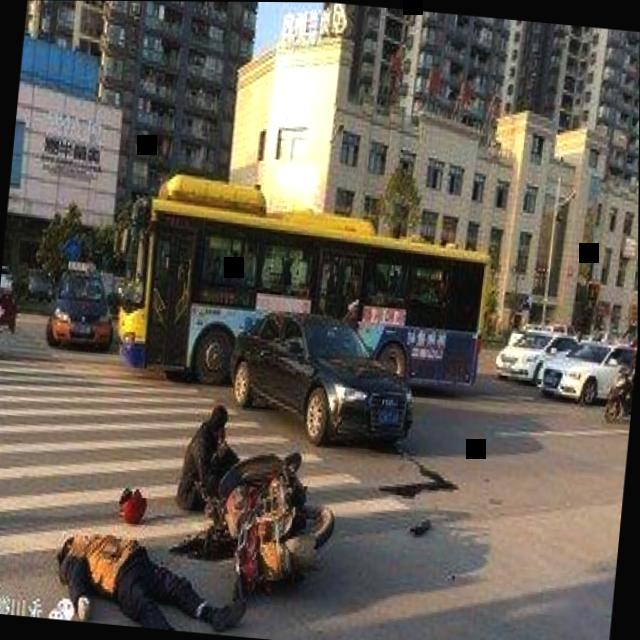Fall-Detected: (165, 387, 250, 522)
